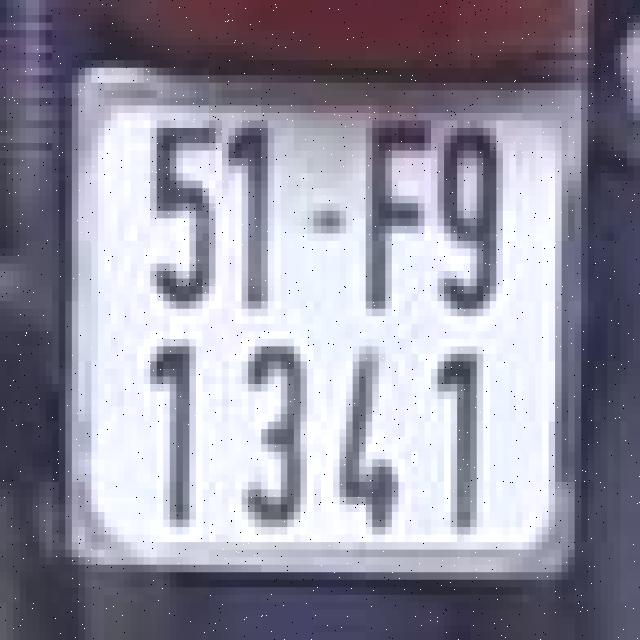1: (428, 331, 500, 550), (140, 331, 206, 550), (219, 106, 284, 316)
3: (232, 328, 310, 538)
4: (326, 327, 405, 546)
5: (140, 113, 226, 316)
6: (428, 101, 519, 328)
F: (350, 105, 434, 324)
